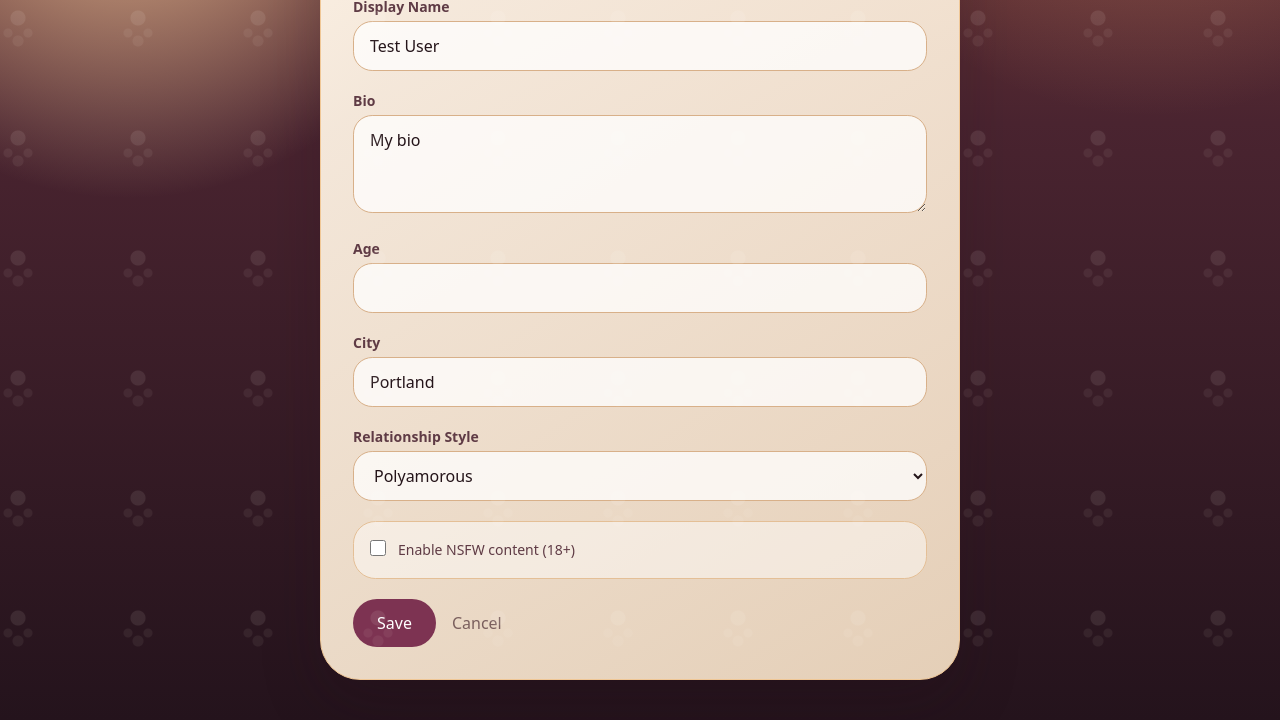
Test: ProfileEditPage › shows error in modal when confirming with age under 18
(page scrolled)
Click the checkbox labelled "Enable NSFW content (18+)" at (378, 548), box left=370, top=540, right=386, bottom=556
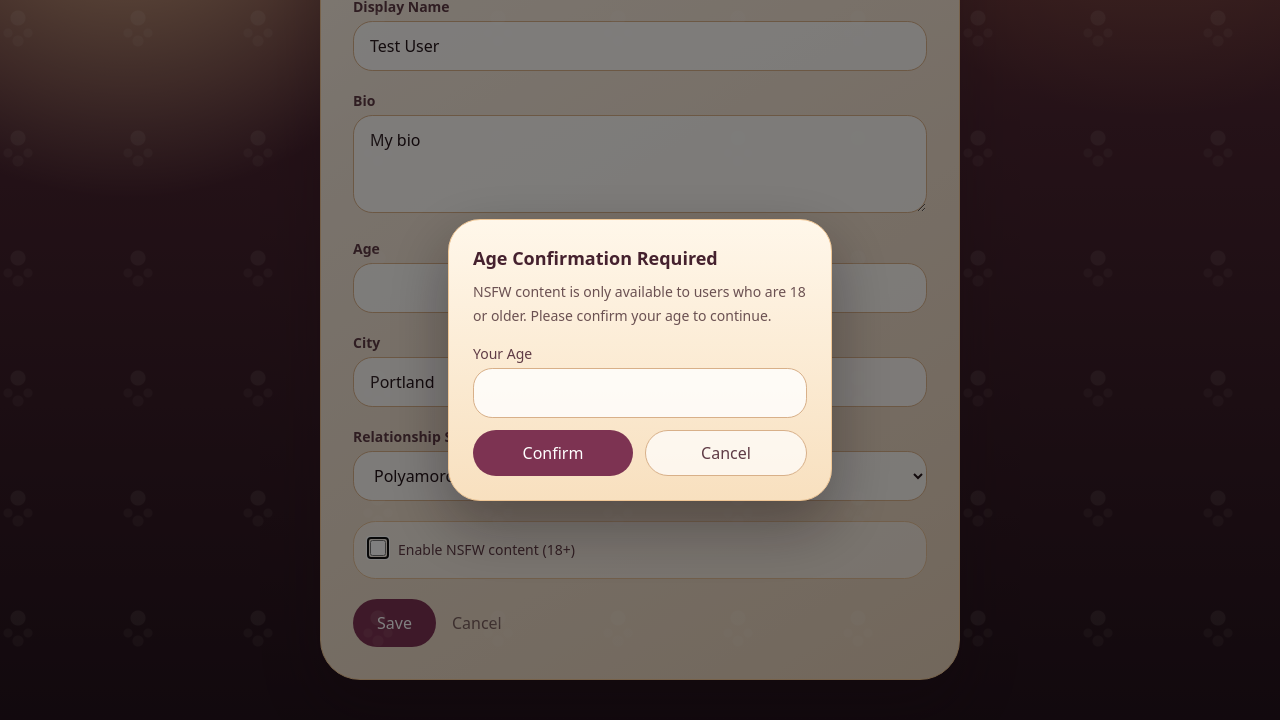
Type "16" into the number field labelled "Your Age" at (640, 393), box left=473, top=368, right=807, bottom=418
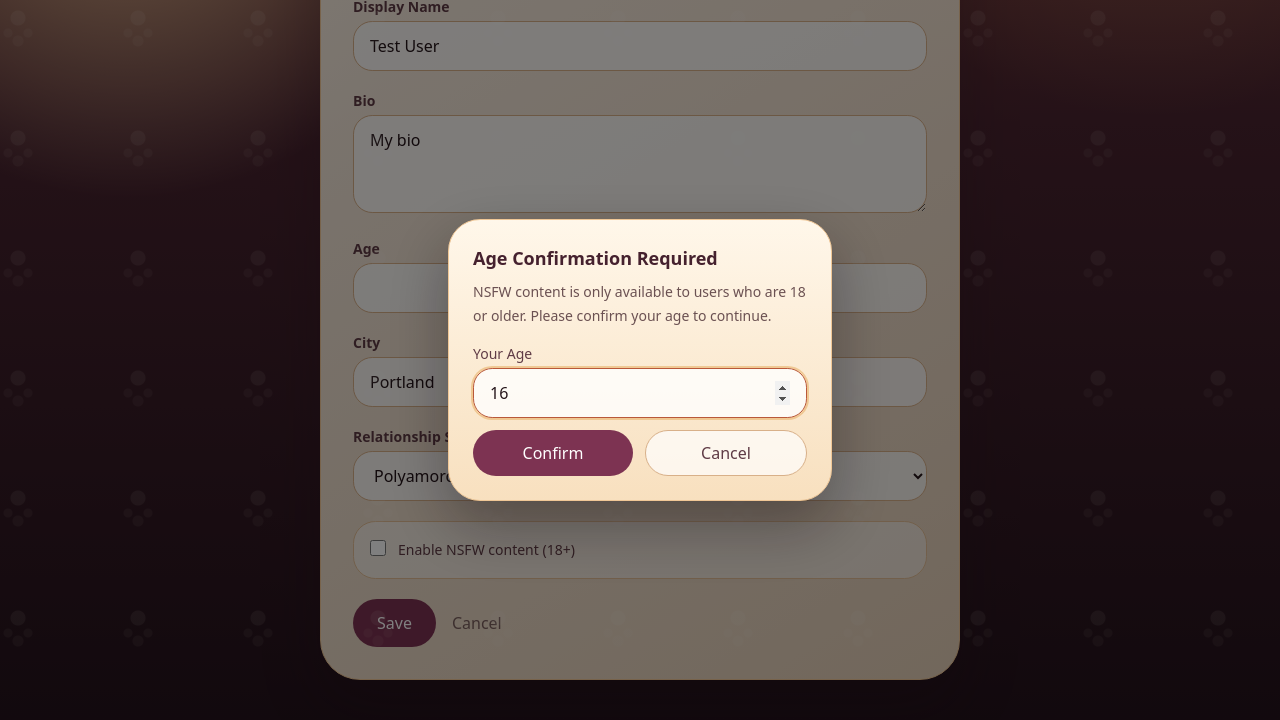
Click the button "Confirm" at (553, 453), box left=473, top=430, right=633, bottom=476
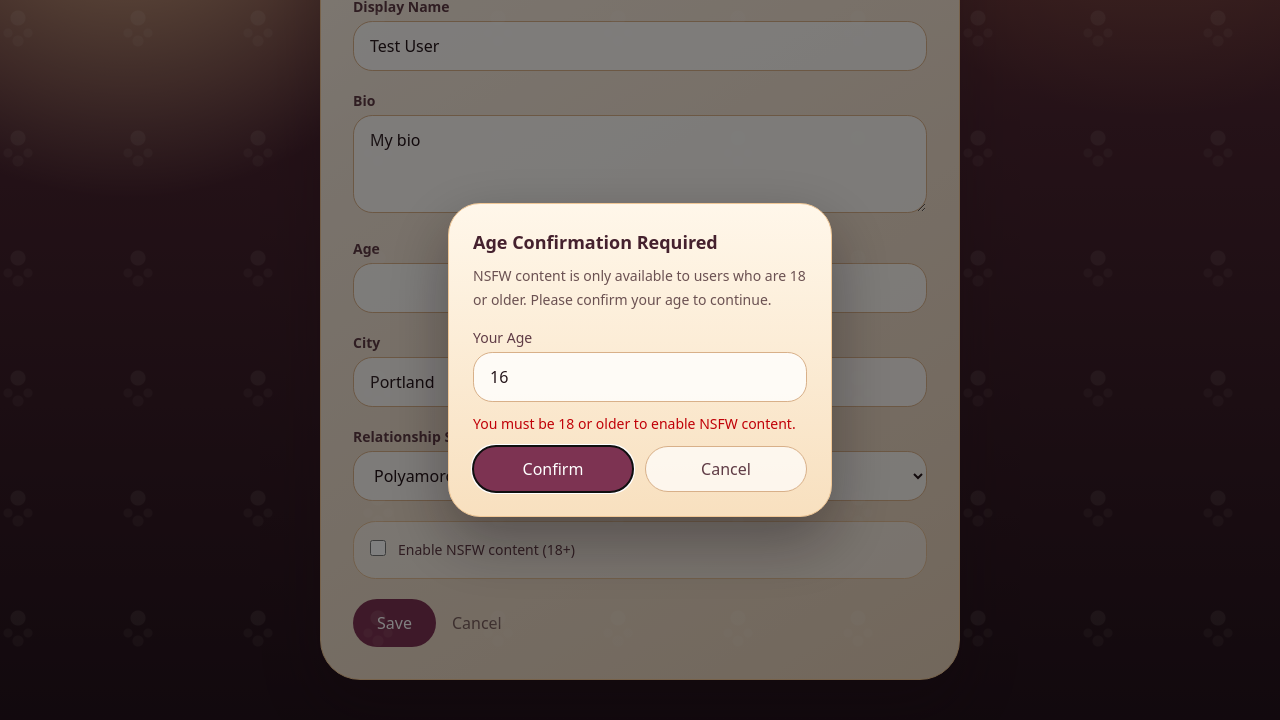
Result: the dialog is shown
Result: the text "You must be 18 or older to enable NSFW content." is shown at left=473, top=414, right=807, bottom=434
